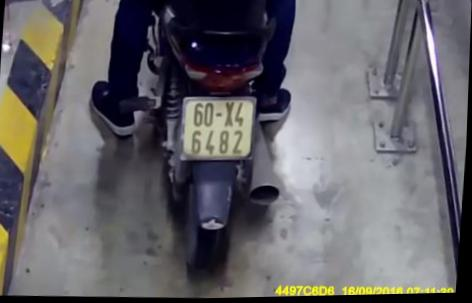LP: (182, 98, 256, 160)
